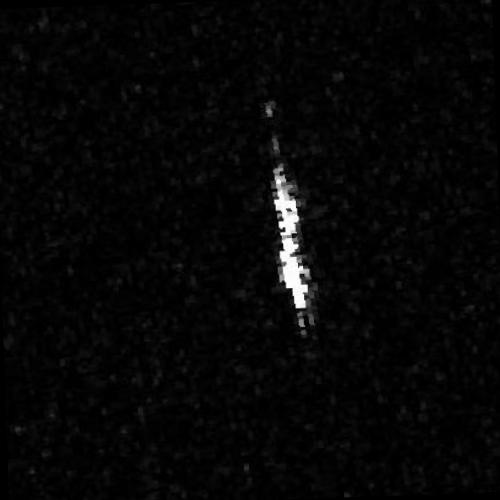ship: (271, 160, 310, 313)
